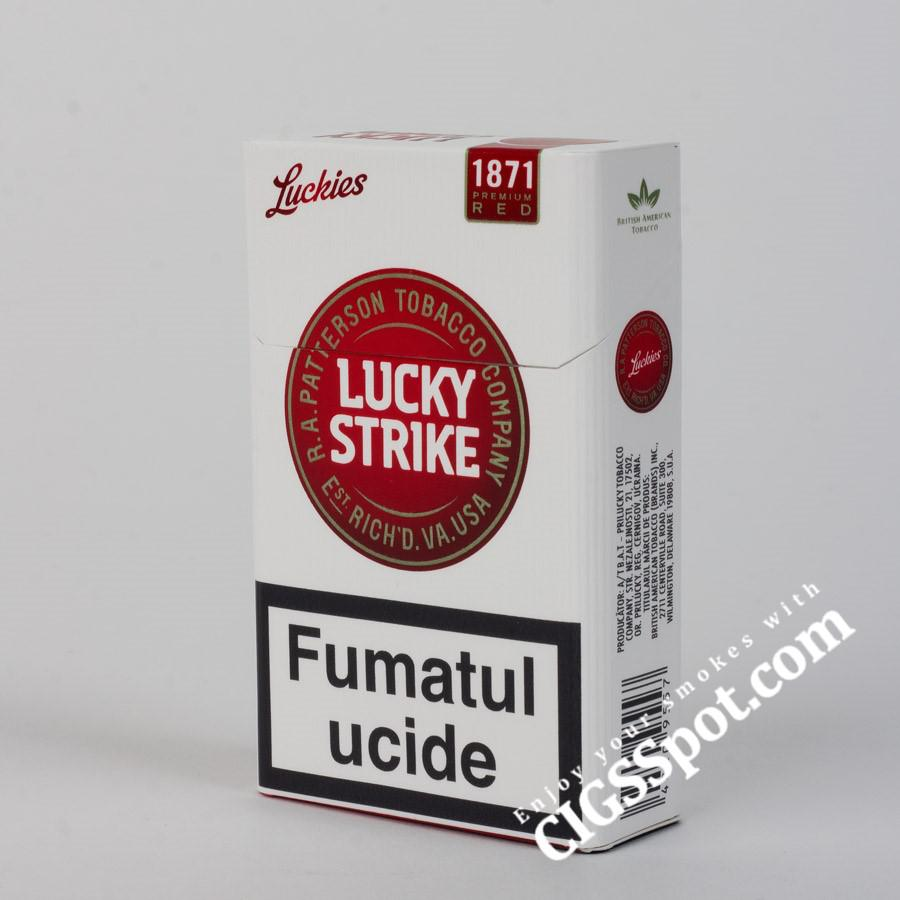lucky_strike_red: (259, 156, 591, 786)
